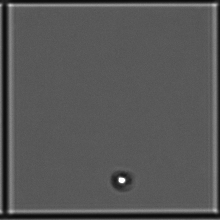Living Cell: (109, 167, 138, 195)
